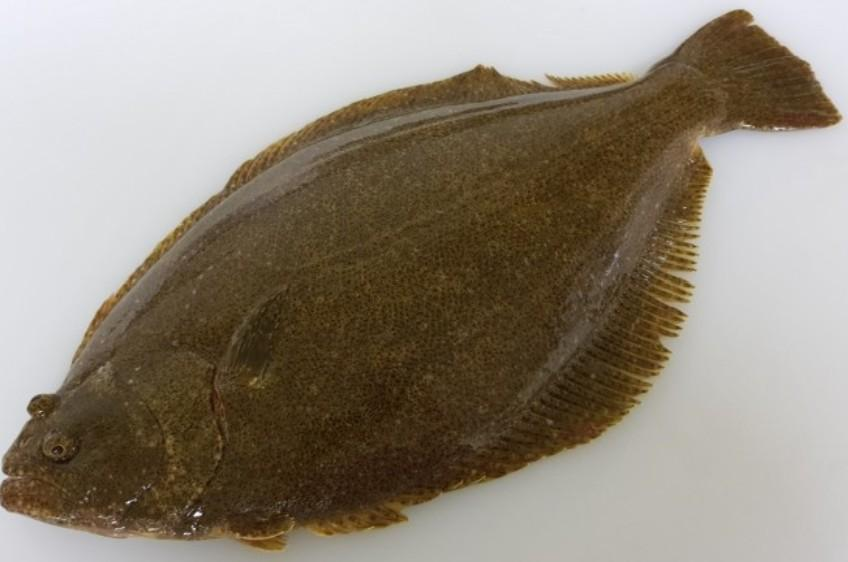fish: (0, 9, 844, 553)
